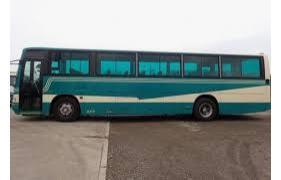bus: (20, 44, 269, 122)
